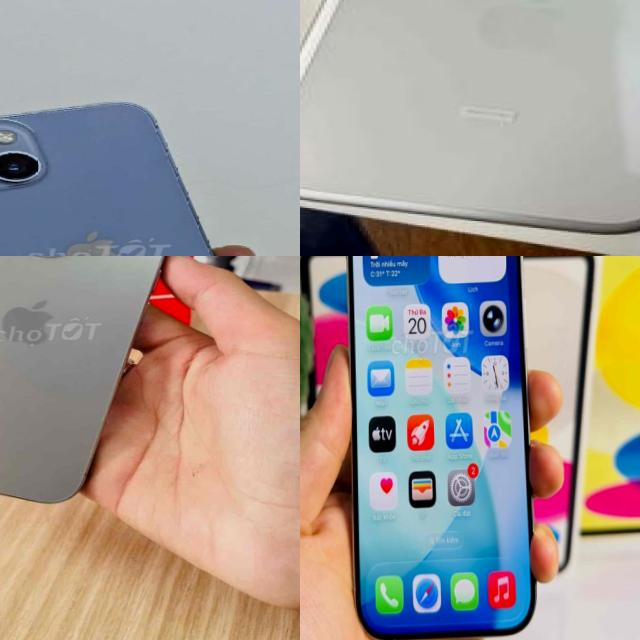gen_14: (0, 96, 269, 256)
gen_15: (323, 256, 551, 640), (0, 256, 195, 510)
gen_17: (300, 0, 640, 239)
